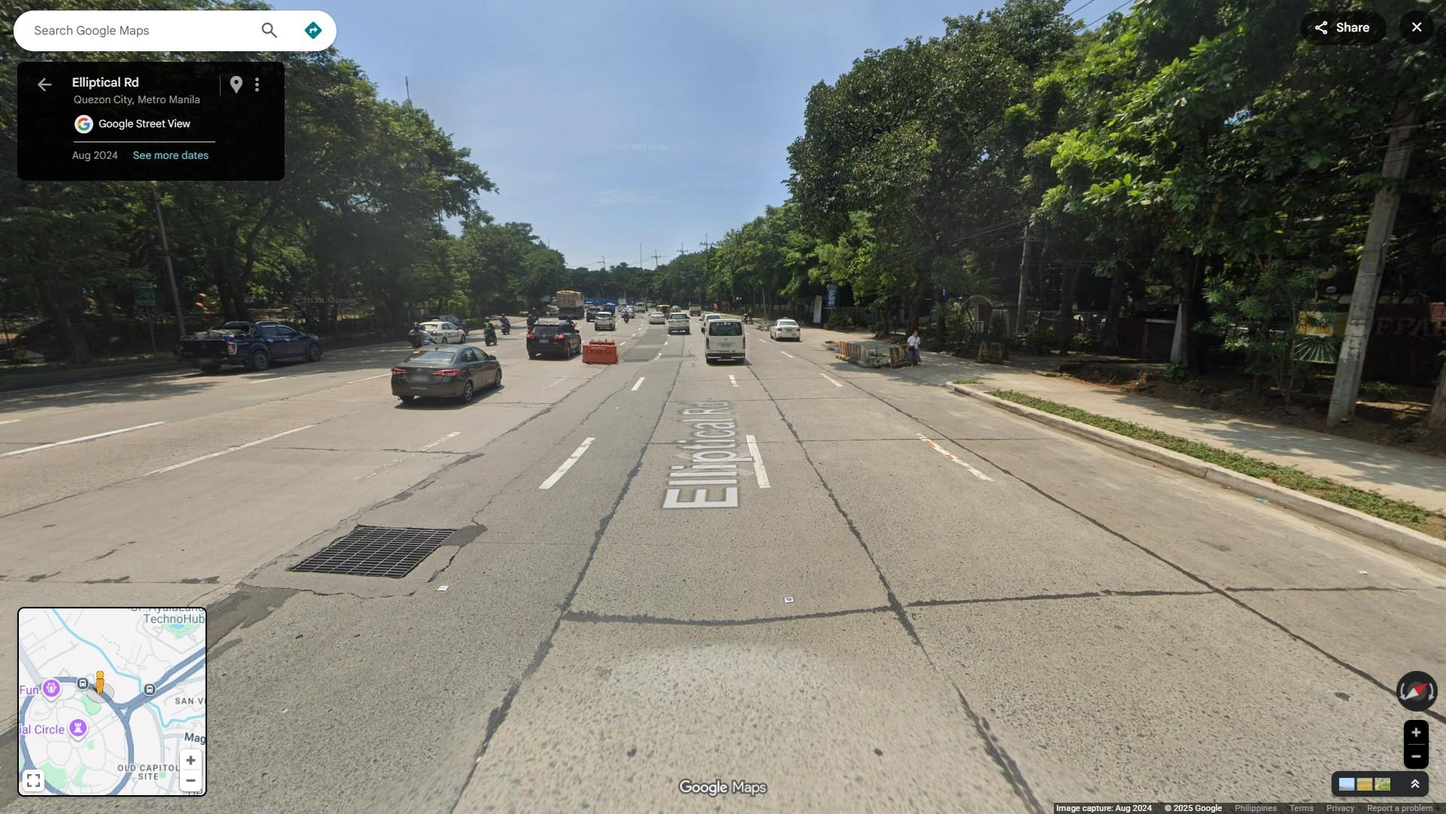pedestrian: (907, 329, 927, 369), (747, 309, 754, 325)
